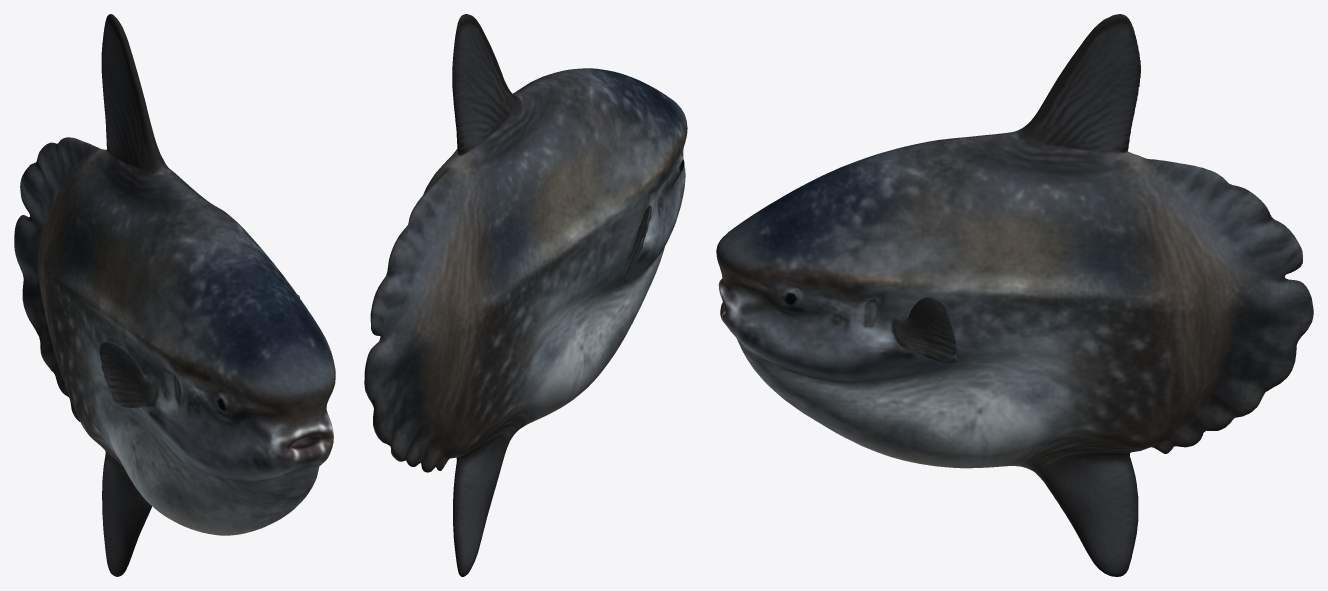
File: 21_ocean_sunfish.glb
The picture shows the model from 3 angles, left to right: view 1: azimuth 30°, elevation 25°; view 2: azimuth 150°, elevation 25°; view 3: azimuth 270°, elevation 25°; orthographic projection.
Visible parts, largest first — view 1: world; view 2: world; view 3: world.
Boxes of the visible parts, left/top/right/bottom form: world: left=14, top=14, right=335, bottom=576; world: left=364, top=14, right=687, bottom=576; world: left=716, top=14, right=1313, bottom=576.
Size of the model in its own units: 0.3687 by 1 by 0.9646.
Materials: 1 (1 with a texture image).
